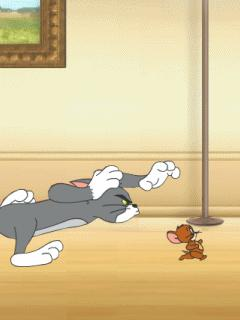jerry: (166, 224, 208, 262)
